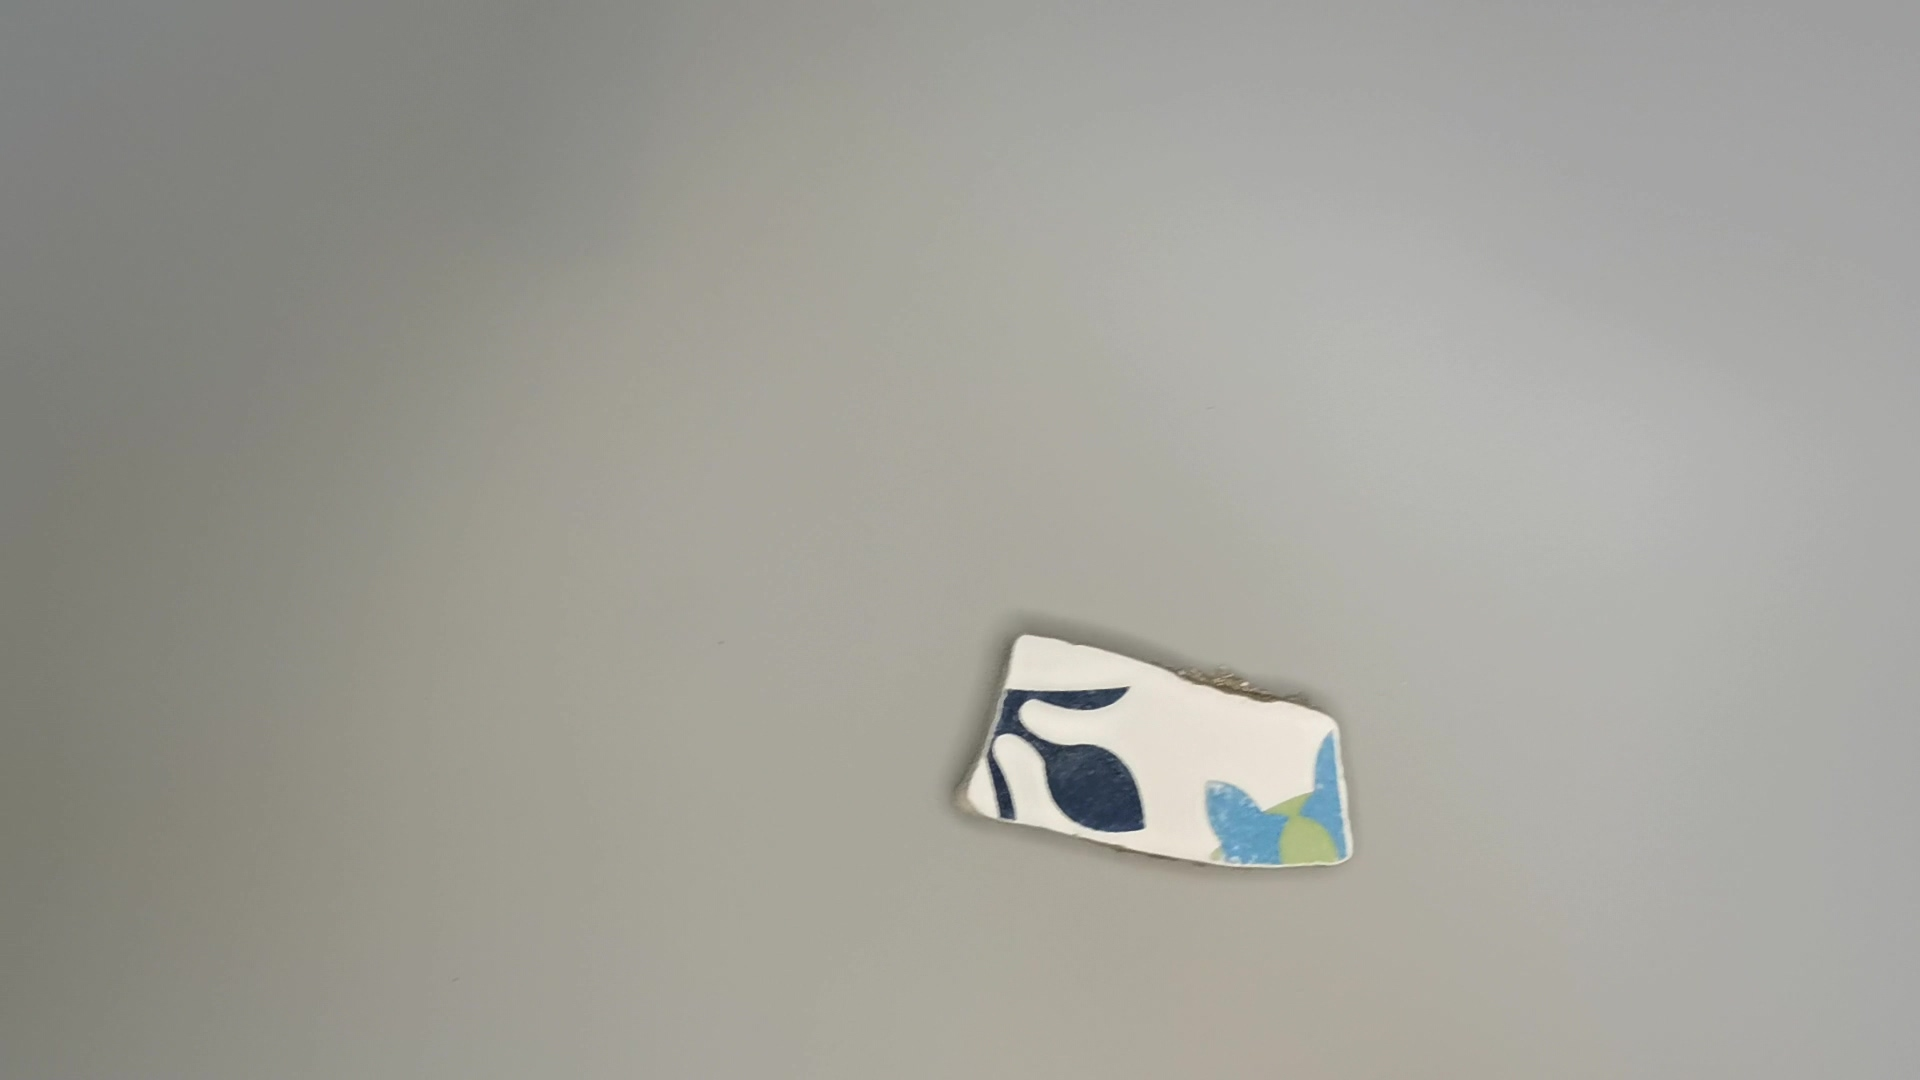ceramic: (948, 622, 1364, 882)
